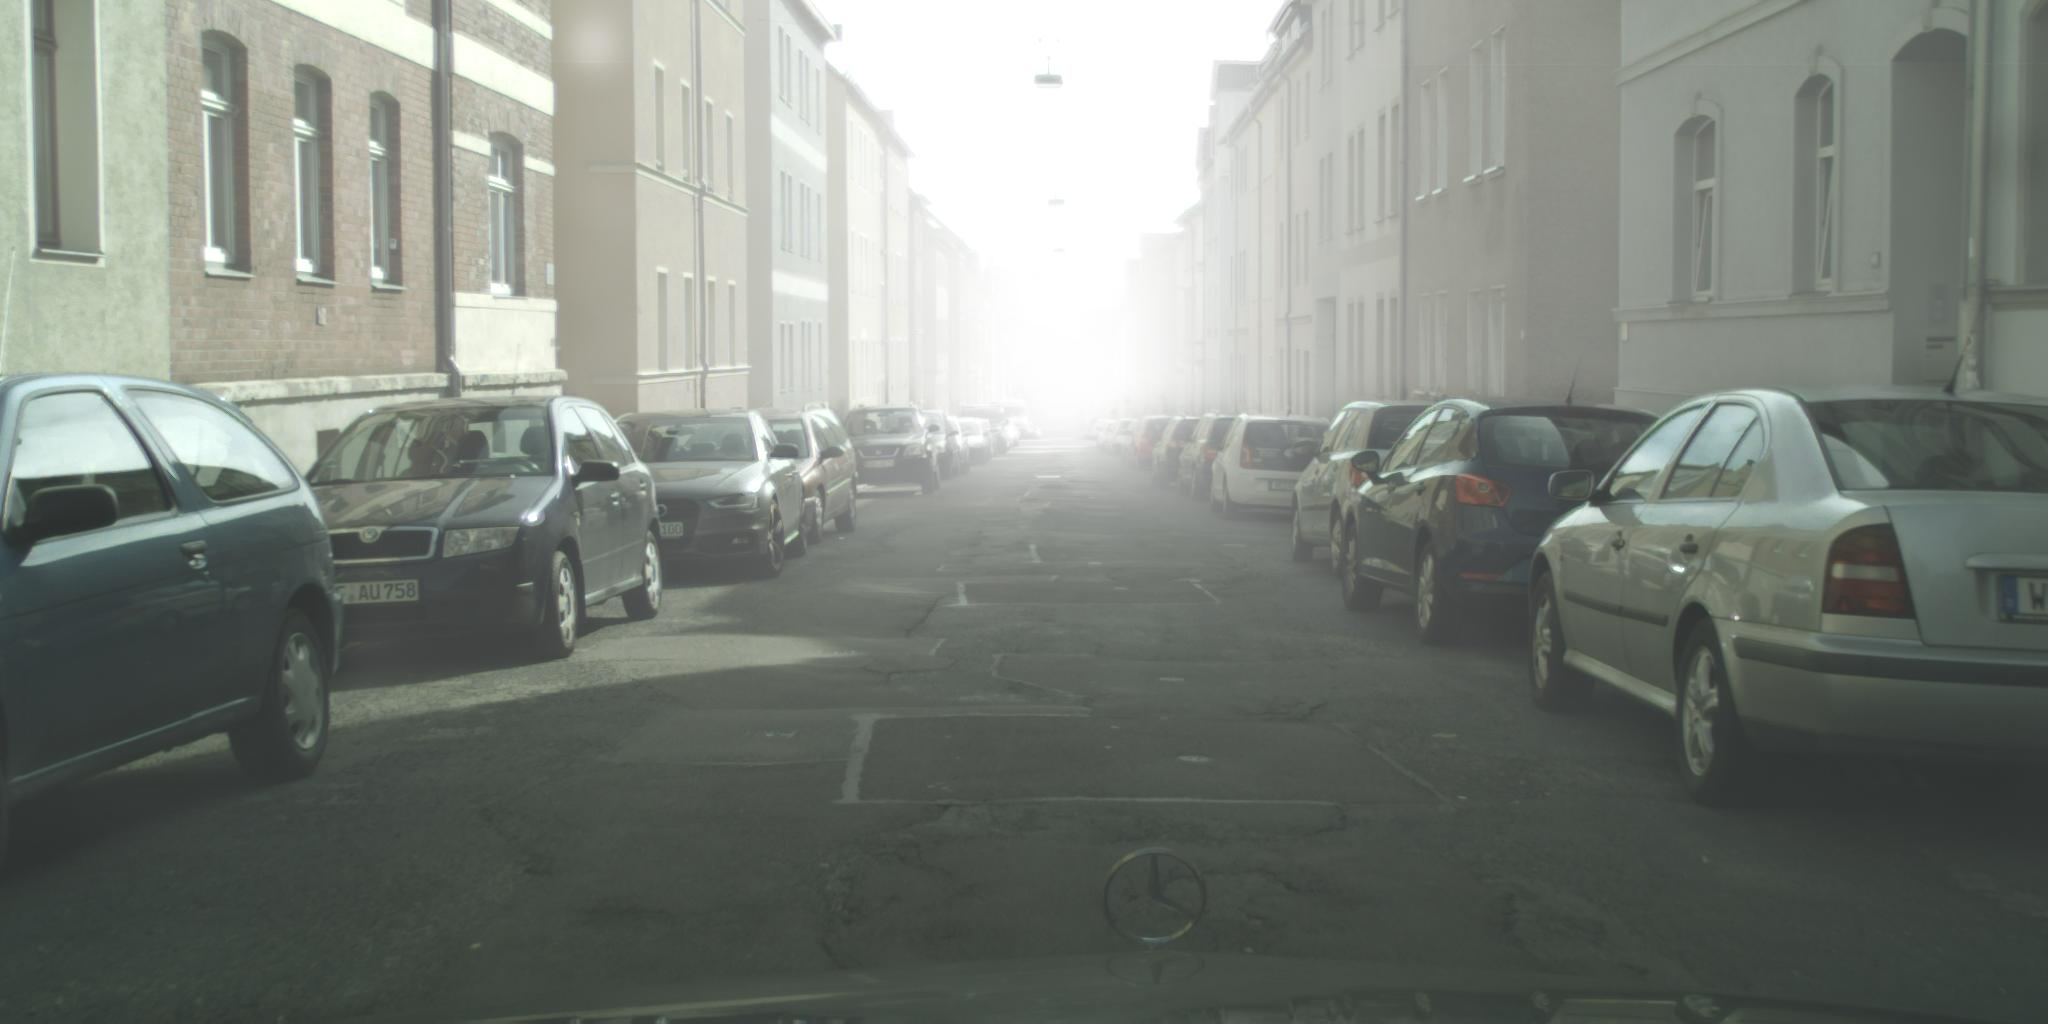car: (1528, 383, 2048, 808), (1, 372, 346, 812), (244, 396, 666, 658), (1341, 397, 1671, 647), (572, 409, 808, 579), (1289, 401, 1447, 581), (724, 404, 859, 545), (1208, 413, 1343, 521), (842, 405, 940, 495), (1177, 410, 1242, 502), (1151, 413, 1213, 491), (916, 411, 963, 481), (1125, 415, 1178, 470), (963, 405, 1010, 456), (955, 418, 995, 468), (943, 417, 972, 475), (1121, 419, 1147, 464), (1108, 419, 1136, 457), (1097, 421, 1122, 451), (1002, 418, 1023, 452), (1088, 417, 1108, 439), (1093, 419, 1113, 441)
